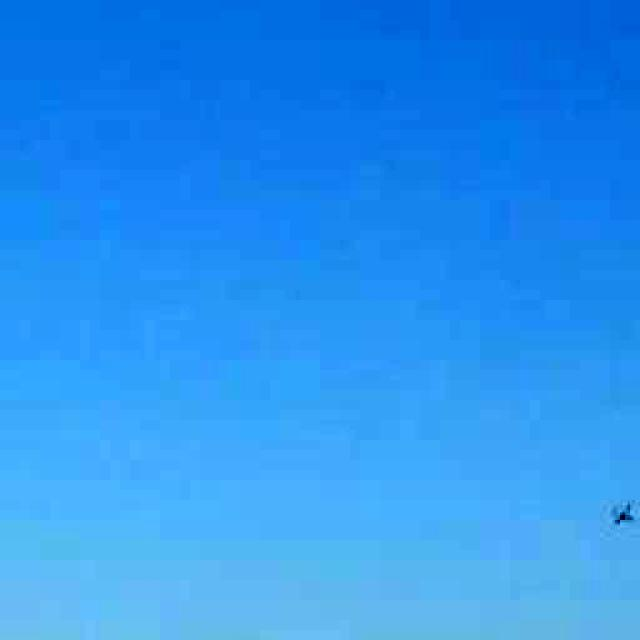bird: (604, 485, 640, 545)
